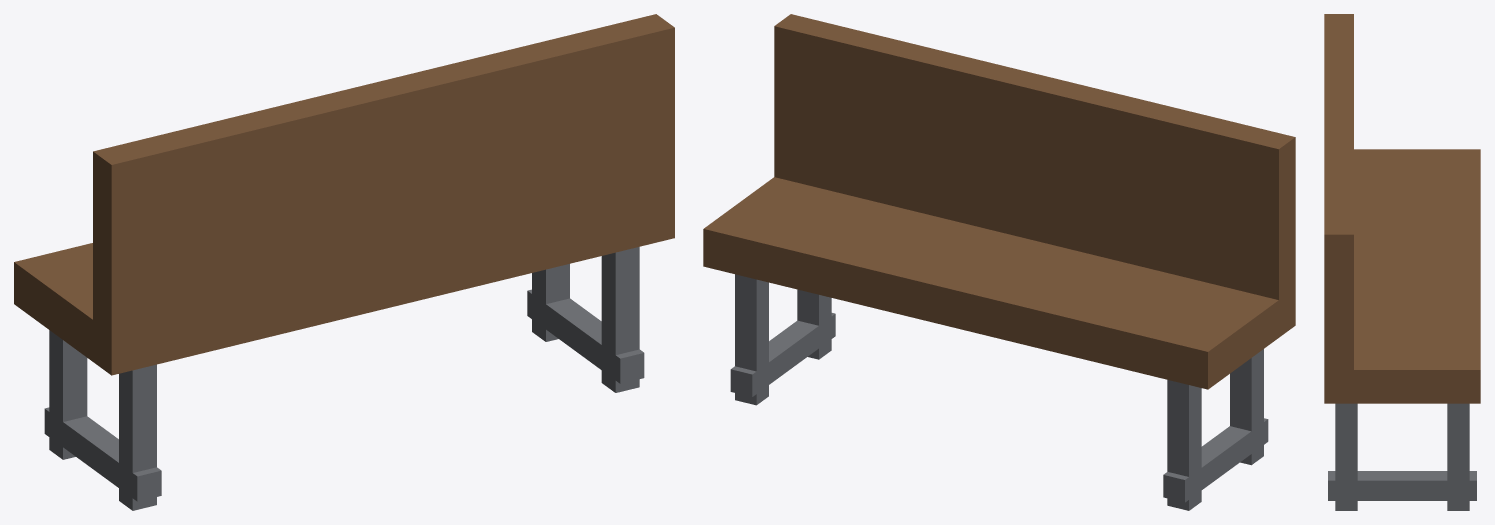
Rendered from SM_K_Bench.obj.
The picture shows the model from 3 angles, left to right: view 1: azimuth 30°, elevation 25°; view 2: azimuth 150°, elevation 25°; view 3: azimuth 270°, elevation 25°; orthographic projection. The views are drawn at different scales.
Parts seen in each view (by area): view 1: SM_K_Bench; view 2: SM_K_Bench; view 3: SM_K_Bench.
Boxes of the visible parts, x1,y1,x2,y2 form: SM_K_Bench: (14, 14, 674, 510); SM_K_Bench: (703, 14, 1295, 510); SM_K_Bench: (1324, 14, 1480, 510).
Bounding box in the file's own units: 1.4 × 0.85 × 0.42.
